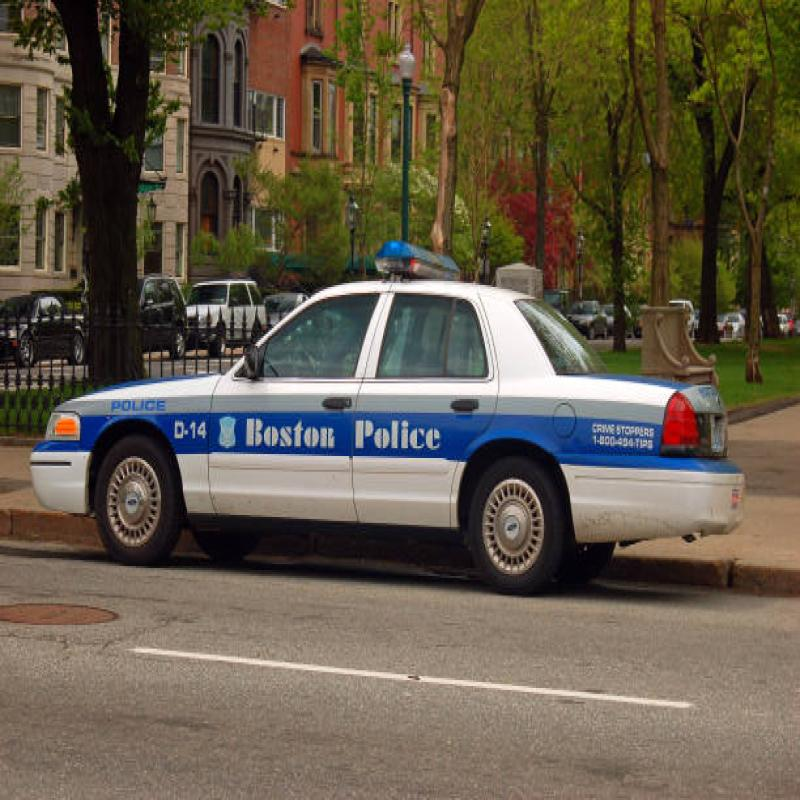AmbulanceSiren: (371, 225, 467, 292)
